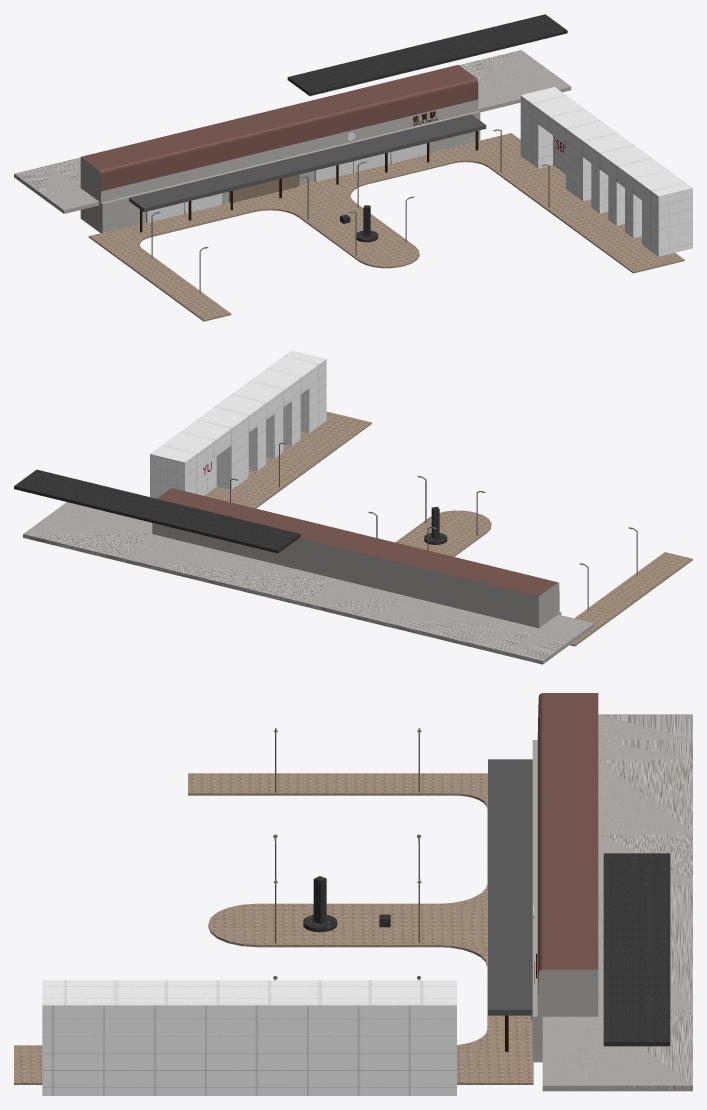
The model's file is sagaStation.fbx.
3 renders of one model, top to bottom at view 1: azimuth 30°, elevation 25°; view 2: azimuth 150°, elevation 25°; view 3: azimuth 270°, elevation 25°, orthographic. The views are drawn at different scales.
Visible parts, largest first — view 1: Cube, Cube.001, Cube.004, Cube.005; view 2: Cube, Cube.004, Cube.001, Cube.005; view 3: Cube, Cube.004, Cube.001, Cube.005, Cube.002.
Boxes of the visible parts, box(x1,y1,x2,y2) form: Cube: box(14, 50, 571, 232); Cube.001: box(88, 133, 684, 321); Cube.004: box(520, 87, 692, 256); Cube.005: box(287, 14, 567, 95); Cube: box(23, 488, 594, 664); Cube.004: box(150, 350, 326, 498); Cube.001: box(204, 411, 692, 646); Cube.005: box(14, 469, 300, 553); Cube: box(488, 693, 692, 1091); Cube.004: box(42, 980, 456, 1095); Cube.001: box(14, 773, 533, 1084); Cube.005: box(603, 853, 670, 1046); Cube.002: box(313, 876, 326, 923).
Bounding box in the file's own units: 5333 × 659 × 3989.
